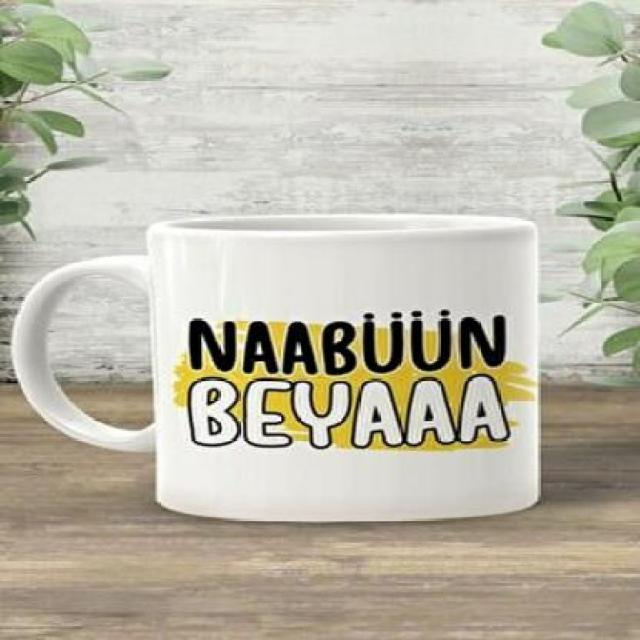taza: (8, 212, 547, 526)
